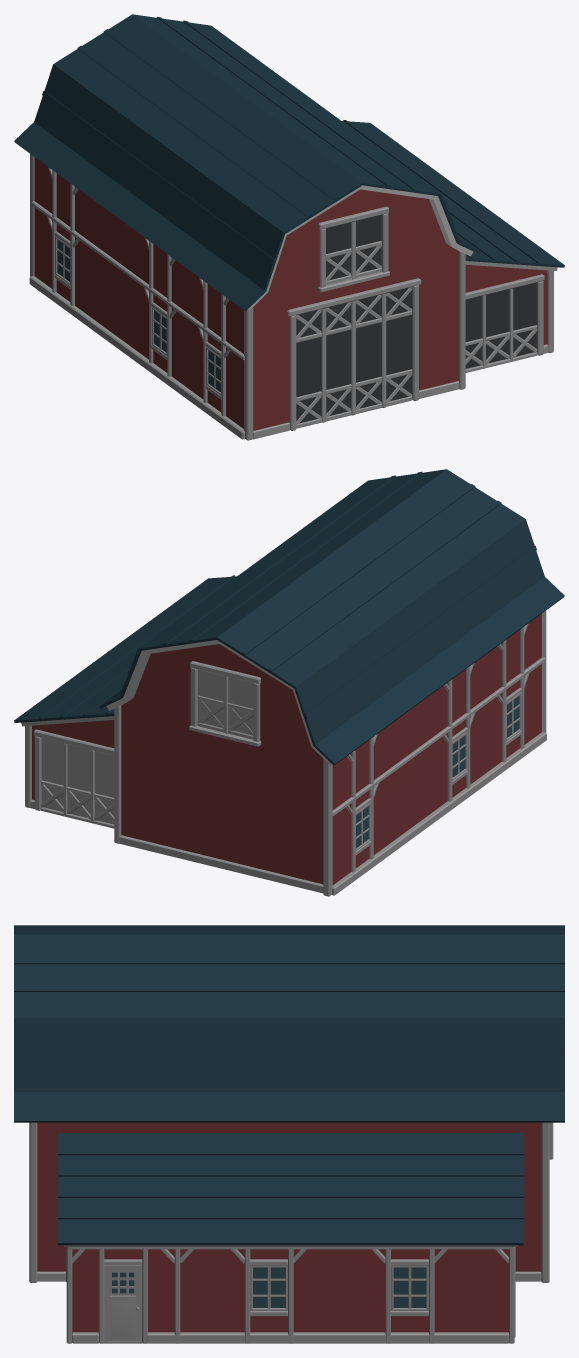
The model's file is farmbuilding_08.glb.
3 renders of one model, top to bottom at view 1: azimuth 30°, elevation 25°; view 2: azimuth 150°, elevation 25°; view 3: azimuth 270°, elevation 25°, orthographic. The views are drawn at different scales.
Visible parts, largest first — view 1: farmbuilding_08; view 2: farmbuilding_08; view 3: farmbuilding_08.
Boxes of the visible parts, x1,y1,x2,y2 form: farmbuilding_08: [14, 14, 564, 440]; farmbuilding_08: [14, 469, 564, 896]; farmbuilding_08: [14, 925, 564, 1343].
Bounding box in the file's own units: 12.78 × 8.58 × 15.03.
1 material, 1 textured.
